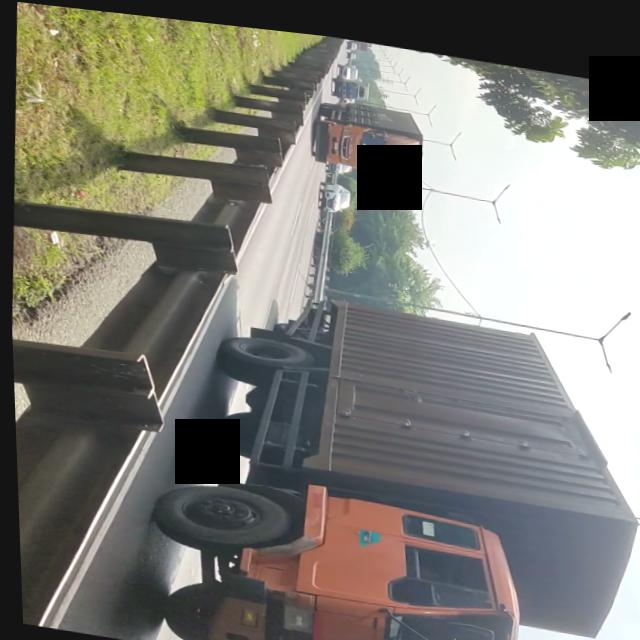Golongan II: (130, 264, 573, 640)
